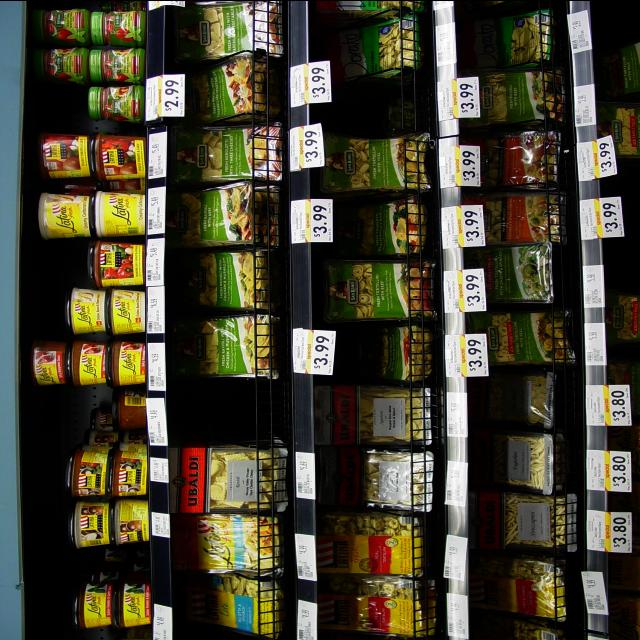empty_space: (183, 382, 281, 432), (339, 78, 409, 122)
